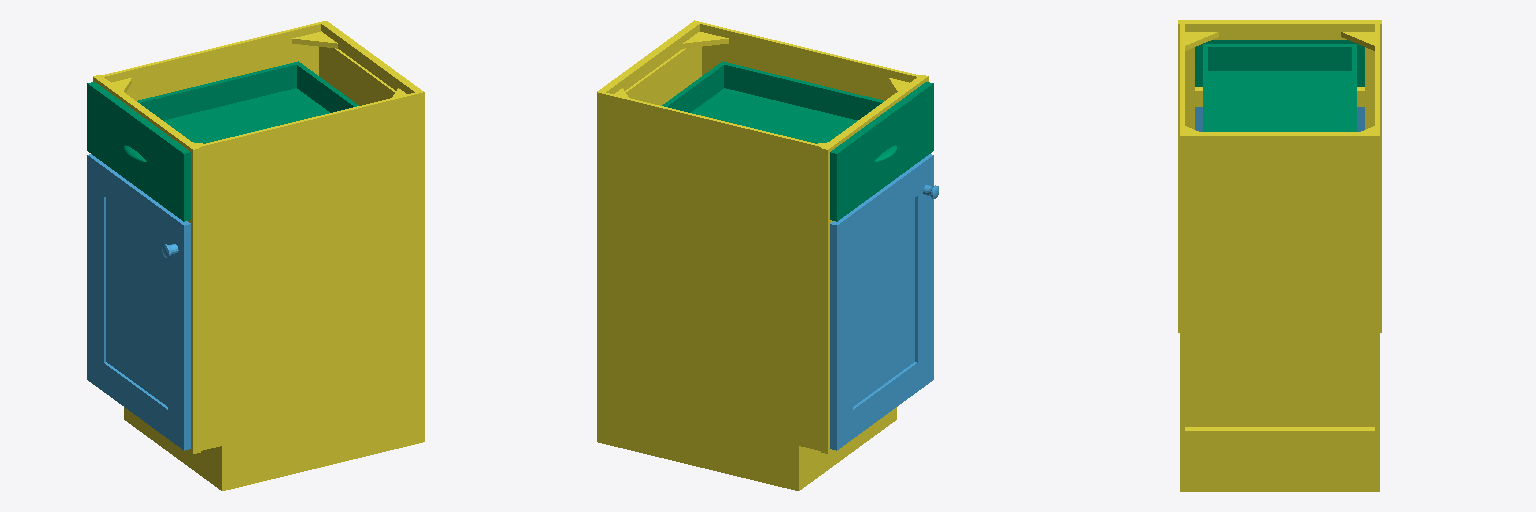
robot.urdf — partnet_1252e89db37d786386d53ab0fe94e911:
<?xml version="1.0" ?>
<robot name="partnet_1252e89db37d786386d53ab0fe94e911">
	<link name="base"/>
	<link name="link_0">
		<visual name="handle-16">
			<origin xyz="0.37263062667115143 0.5667060017585756 -0.5220061005381347"/>
			<geometry>
				<mesh filename="textured_objs/link_0.obj"/>
			</geometry>
		</visual>
		<collision>
			<origin xyz="0.37263062667115143 0.5667060017585756 -0.5220061005381347"/>
			<geometry>
				<mesh filename="textured_objs/link_0_convex.obj"/>
			</geometry>
		</collision>
	</link>
	<link name="link_1">
		<visual name="drawer_front-9">
			<origin xyz="0.017042793320627622 -0.5967289342718265 0.5155950188636786"/>
			<geometry>
				<mesh filename="textured_objs/link_1.obj"/>
			</geometry>
		</visual>
		<collision>
			<origin xyz="0.017042793320627622 -0.5967289342718265 0.5155950188636786"/>
			<geometry>
				<mesh filename="textured_objs/link_1_convex.obj"/>
			</geometry>
		</collision>
	</link>
	<link name="link_2">
		<visual name="shelf-4">
			<origin xyz="0 0 0"/>
			<geometry>
				<mesh filename="textured_objs/link_2.obj"/>
			</geometry>
		</visual>
		<collision>
			<origin xyz="0 0 0"/>
			<geometry>
				<mesh filename="textured_objs/link_2_convex.obj"/>
			</geometry>
		</collision>
	</link>
	<joint name="joint_0" type="revolute">
		<origin xyz="-0.37263062667115143 -0.5667060017585756 0.5220061005381347"/>
		<axis xyz="0 -1 0"/>
		<child link="link_0"/>
		<parent link="link_2"/>
		<limit lower="0.0" upper="1.5707963267948966"/>
		<dynamics damping="0.0002" friction="0.01"/>
	</joint>
	<joint name="joint_1" type="prismatic">
		<origin xyz="-0.017042793320627622 0.5967289342718265 -0.5155950188636786"/>
		<axis xyz="0 0 1"/>
		<child link="link_1"/>
		<parent link="link_2"/>
		<limit lower="0" upper="0.7999999999999998"/>
		<dynamics damping="0.0002" friction="0.01"/>
	</joint>
	<joint name="joint_2" type="fixed">
		<origin rpy="1.570796326794897 0 -1.570796326794897" xyz="0 0 0"/>
		<child link="link_2"/>
		<parent link="base"/>
		<dynamics damping="0.0002" friction="0.01"/>
	</joint>
</robot>

--- Render facts (derived) ---
Views: 3 orthographic renders of the robot side by side, from view 1: azimuth 30°, elevation 25°; view 2: azimuth 150°, elevation 25°; view 3: azimuth 270°, elevation 25°.
Robot: partnet_1252e89db37d786386d53ab0fe94e911 — 4 links, 3 joints (1 revolute, 1 prismatic, 1 fixed); root link base; default pose: all joints at 0.
Visible links, largest first — view 1: link_2, link_0, link_1; view 2: link_2, link_0, link_1; view 3: link_2, link_1.
Link boxes in pixels (<box>): link_2: <box>93,21,424,490</box>; link_0: <box>87,154,190,450</box>; link_1: <box>87,61,358,221</box>; link_2: <box>597,20,928,490</box>; link_0: <box>830,154,938,450</box>; link_1: <box>662,61,933,221</box>; link_2: <box>1178,20,1381,491</box>; link_1: <box>1195,40,1364,131</box>.
Size in the robot's own frame: 1.15 by 0.7991 by 1.53 metres.
3 mesh visuals loaded from 3 distinct referenced files (3 OBJ).